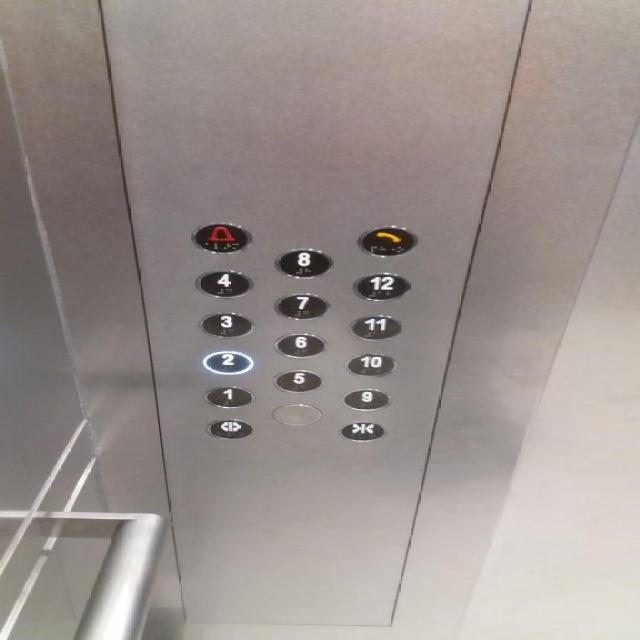1: (199, 383, 255, 411)
10: (344, 348, 400, 381)
11: (346, 308, 406, 343)
12: (353, 268, 412, 303)
2: (199, 348, 259, 376)
3: (194, 310, 254, 338)
4: (197, 267, 256, 301)
5: (270, 368, 324, 395)
6: (270, 329, 331, 362)
7: (270, 290, 331, 322)
8: (272, 247, 334, 279)
9: (337, 386, 393, 413)
alarm: (189, 220, 254, 256)
call: (353, 220, 422, 261)
close: (333, 418, 388, 445)
empty: (266, 402, 324, 428)
open: (200, 416, 254, 442)
